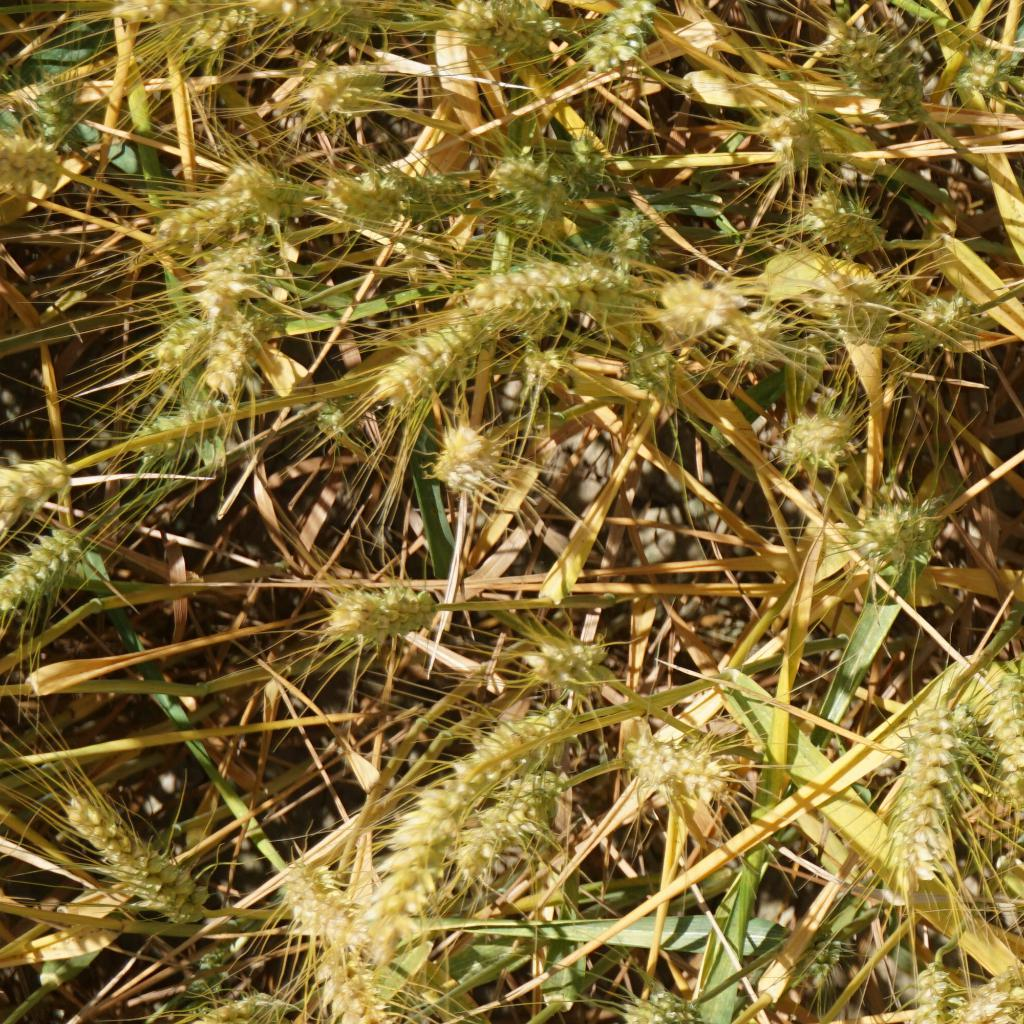0-0: (61, 790, 212, 916), (468, 788, 587, 865), (900, 724, 960, 873), (828, 24, 932, 108), (642, 262, 743, 346), (454, 700, 581, 766), (376, 314, 481, 393), (475, 260, 623, 316), (379, 142, 480, 224), (466, 145, 578, 218), (625, 733, 751, 796), (222, 152, 342, 218), (387, 784, 456, 896), (152, 180, 272, 243), (867, 950, 969, 1024), (301, 944, 391, 1024), (326, 588, 451, 644), (0, 126, 96, 195), (0, 545, 86, 619), (121, 390, 217, 456), (270, 862, 358, 934), (587, 0, 668, 78), (829, 272, 910, 346), (806, 176, 883, 252), (430, 417, 503, 497), (445, 0, 552, 54), (555, 121, 633, 194), (331, 159, 403, 238), (182, 320, 257, 393), (761, 94, 834, 166), (185, 249, 265, 313), (308, 371, 377, 445), (302, 49, 377, 117), (182, 980, 293, 1024), (977, 671, 1024, 771), (519, 638, 611, 686), (0, 458, 63, 528), (611, 977, 704, 1024), (782, 411, 852, 473), (602, 212, 674, 272), (862, 501, 934, 561), (902, 293, 968, 355), (711, 303, 781, 360), (781, 927, 846, 986), (254, 0, 366, 34), (939, 40, 1004, 97), (614, 343, 679, 392), (140, 319, 207, 361), (974, 974, 1024, 1024), (513, 353, 569, 391)
